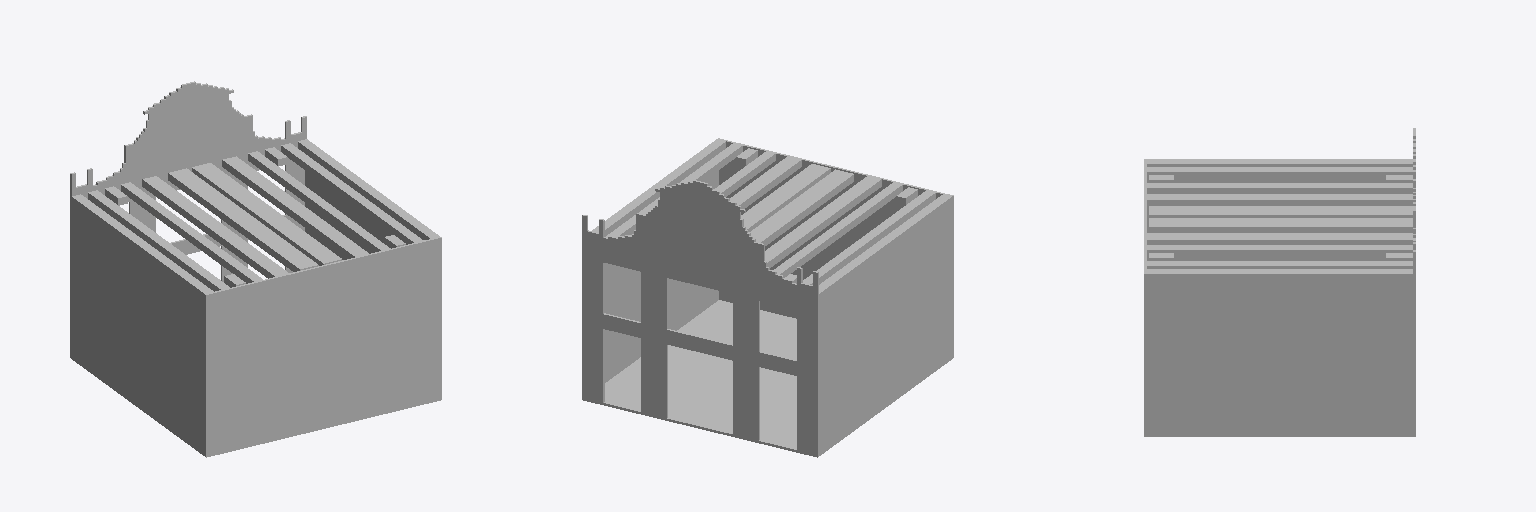
Rendered from room1.obj.
3 views of the same model, side by side, from view 1: azimuth 30°, elevation 25°; view 2: azimuth 150°, elevation 25°; view 3: azimuth 270°, elevation 25° (orthographic).
Visible parts, largest first — view 1: object 1; view 2: object 1; view 3: object 1.
Part boxes in pixels (left/top/right/bottom): object 1: left=70, top=81, right=441, bottom=457; object 1: left=582, top=138, right=953, bottom=457; object 1: left=1144, top=128, right=1415, bottom=436.
Bounding box in the file's own units: 10 × 10 × 10.